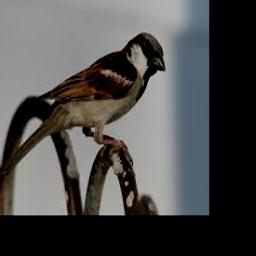Sparrow: (0, 33, 165, 179)
